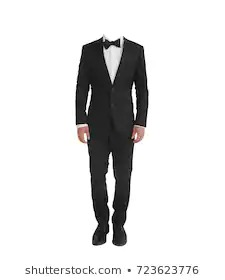F_M_suit jacket: (75, 33, 148, 126)
F_dress pants: (86, 119, 136, 230)
